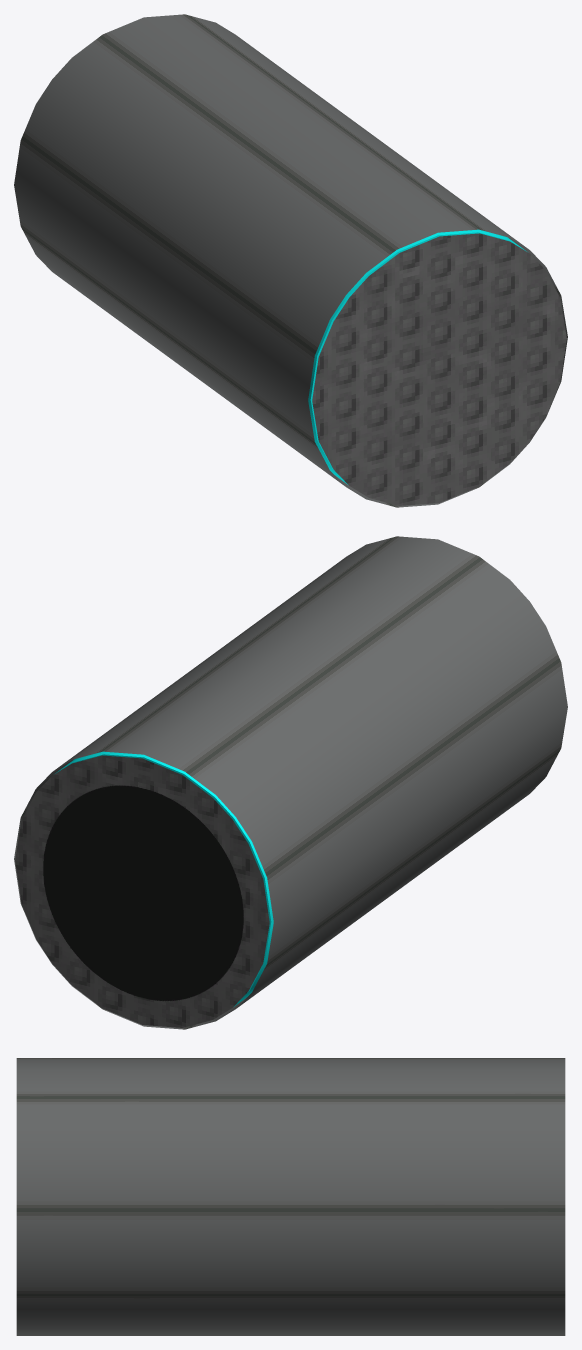
Rendered from distancesensor.obj.
3 renders of one model, top to bottom at view 1: azimuth 30°, elevation 25°; view 2: azimuth 150°, elevation 25°; view 3: azimuth 270°, elevation 25°, orthographic. The views are drawn at different scales.
Parts seen in each view (by area): view 1: Distancesensor3, Distancesensor4, Distancesensor7, Distancesensor1; view 2: Distancesensor3, Distancesensor4, Distancesensor2, Distancesensor1; view 3: Distancesensor5, Distancesensor4, Distancesensor6.
Boxes of the visible parts, box(x1,y1,x2,y2) form: Distancesensor3: box(14, 80, 345, 486); Distancesensor4: box(52, 14, 527, 294); Distancesensor7: box(312, 233, 566, 505); Distancesensor1: box(308, 229, 526, 484); Distancesensor3: box(236, 602, 567, 1008); Distancesensor4: box(54, 536, 529, 816); Distancesensor2: box(15, 755, 269, 1027); Distancesensor1: box(55, 751, 273, 1006); Distancesensor5: box(16, 1149, 565, 1328); Distancesensor4: box(16, 1058, 565, 1148); Distancesensor6: box(16, 1328, 565, 1335).
Bounding box in the file's own units: 2.04 × 2.04 × 4.04.
Materials: 4 (3 with a texture image).
